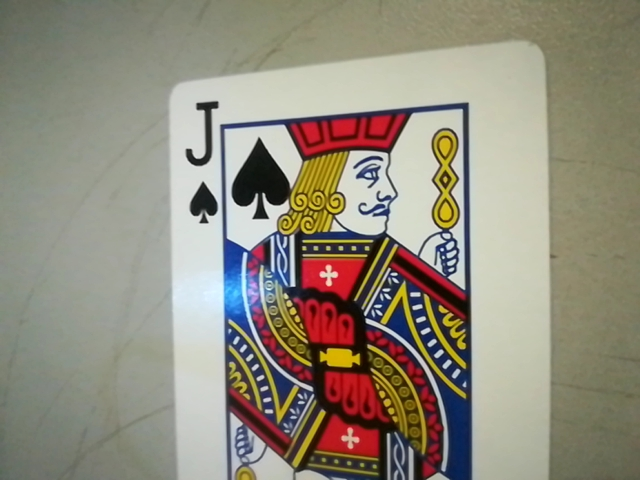ht j: (177, 92, 228, 228)
